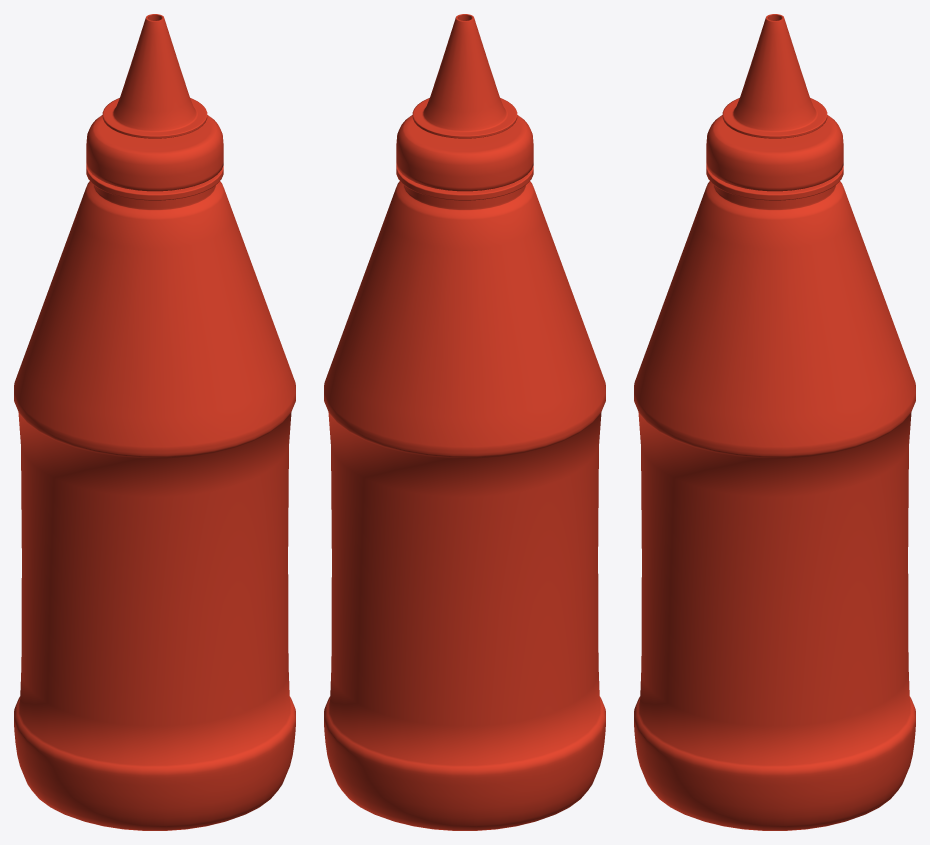
The model's file is SauceBottle.dae.
The picture shows the model from 3 angles, left to right: view 1: azimuth 30°, elevation 25°; view 2: azimuth 150°, elevation 25°; view 3: azimuth 270°, elevation 25°; orthographic projection.
Parts seen in each view (by area): view 1: Sauce_Bottle1; view 2: Sauce_Bottle1; view 3: Sauce_Bottle1.
Part boxes in pixels (x1=…): Sauce_Bottle1: x1=14, y1=14, x2=295, y2=830; Sauce_Bottle1: x1=324, y1=14, x2=605, y2=830; Sauce_Bottle1: x1=634, y1=14, x2=915, y2=830.
Bounding box in the file's own units: 0.0795 × 0.0795 × 0.237.
